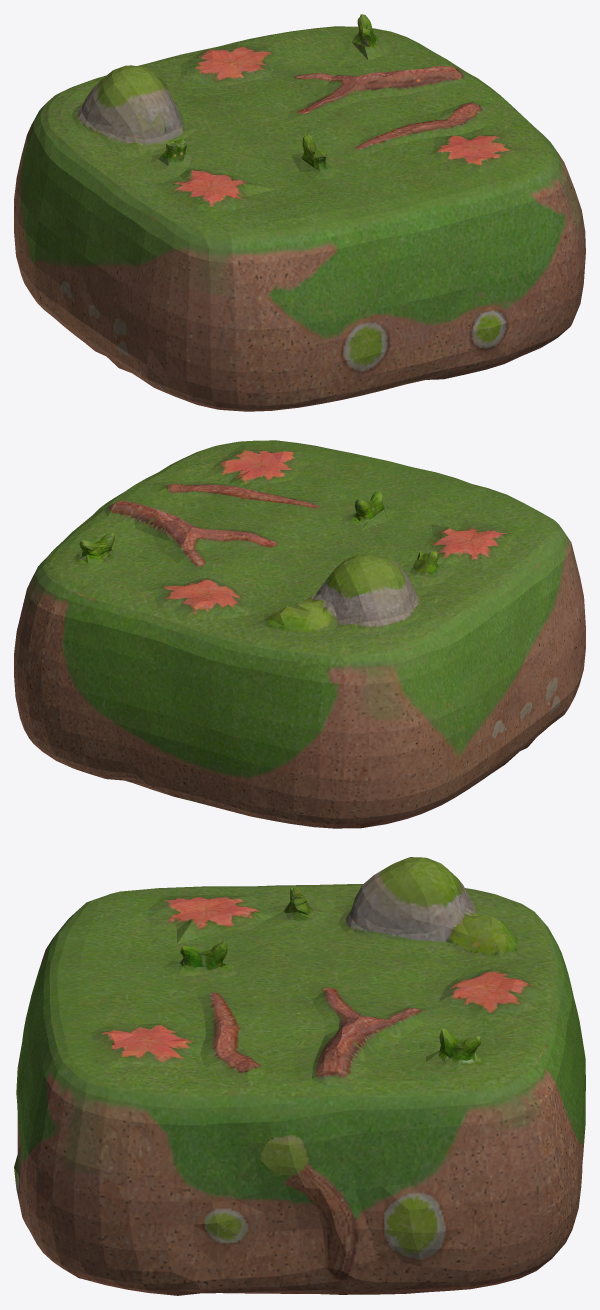
File: Stage_04_Ground_Forest_003.fbx
3 renders of one model, top to bottom at view 1: azimuth 30°, elevation 25°; view 2: azimuth 150°, elevation 25°; view 3: azimuth 270°, elevation 25°, orthographic. The views are drawn at different scales.
Visible parts, largest first — view 1: Stage_04_Ground_Forest_003; view 2: Stage_04_Ground_Forest_003; view 3: Stage_04_Ground_Forest_003.
Boxes of the visible parts, left/top/right/bottom form: Stage_04_Ground_Forest_003: left=14, top=14, right=585, bottom=411; Stage_04_Ground_Forest_003: left=14, top=440, right=585, bottom=828; Stage_04_Ground_Forest_003: left=14, top=857, right=585, bottom=1295.
Size of the model in its own units: 99.22 by 49.09 by 98.7.
